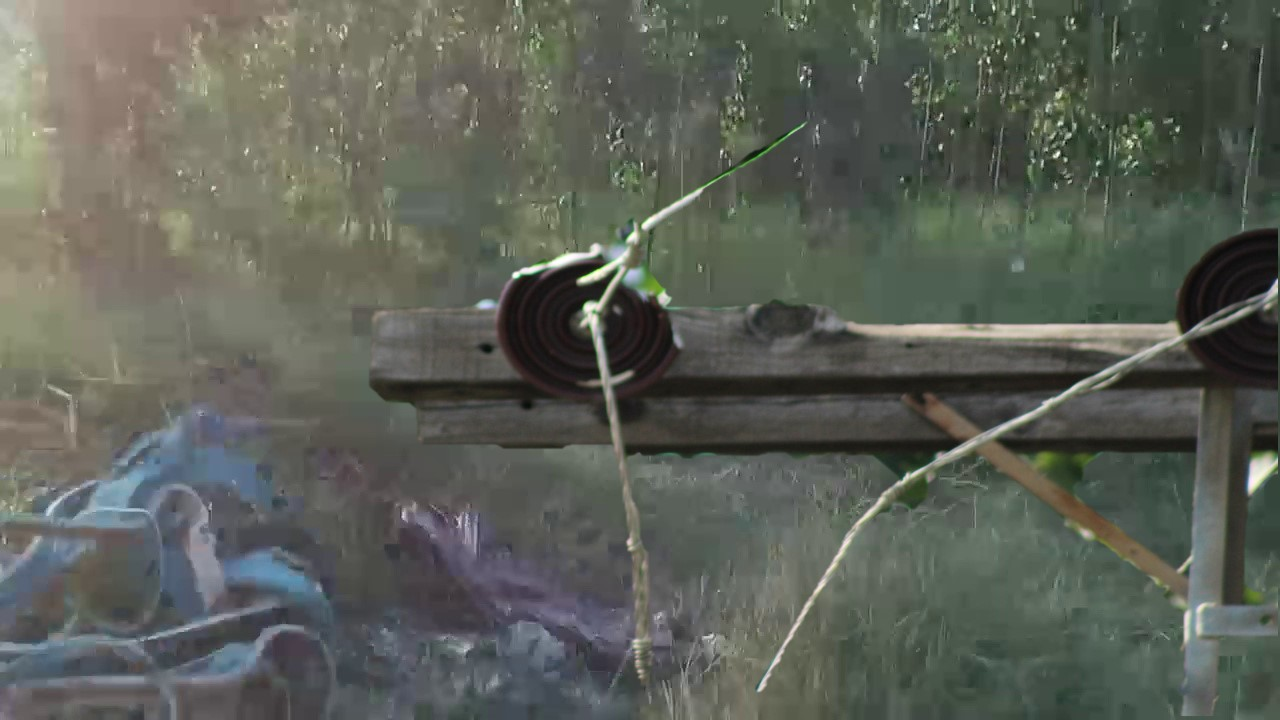defect_disc: (491, 239, 689, 409)
